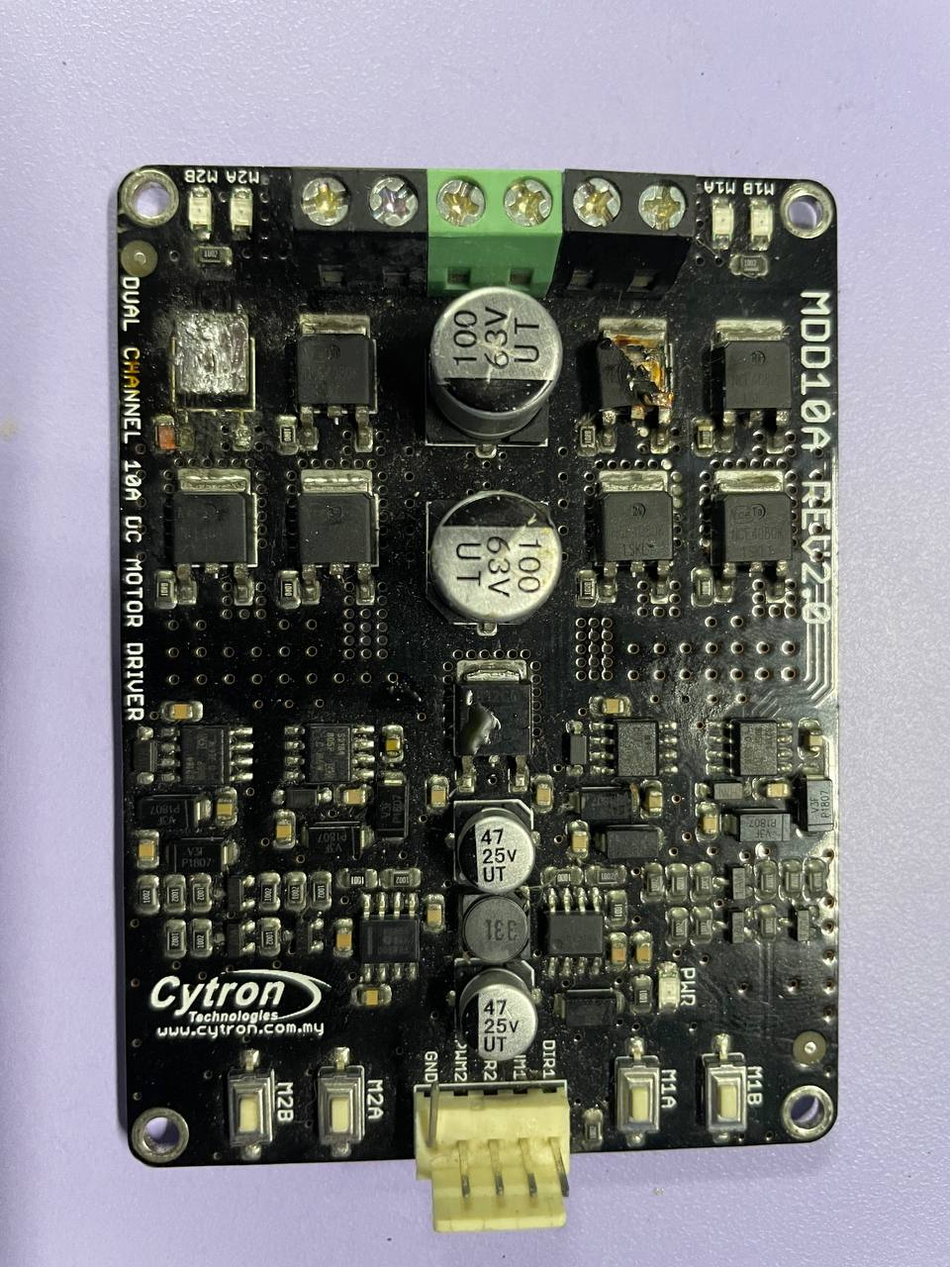bent_pin: (416, 1073, 445, 1150)
broken_comp: (593, 323, 680, 439)
missing_comp: (168, 325, 261, 432)
